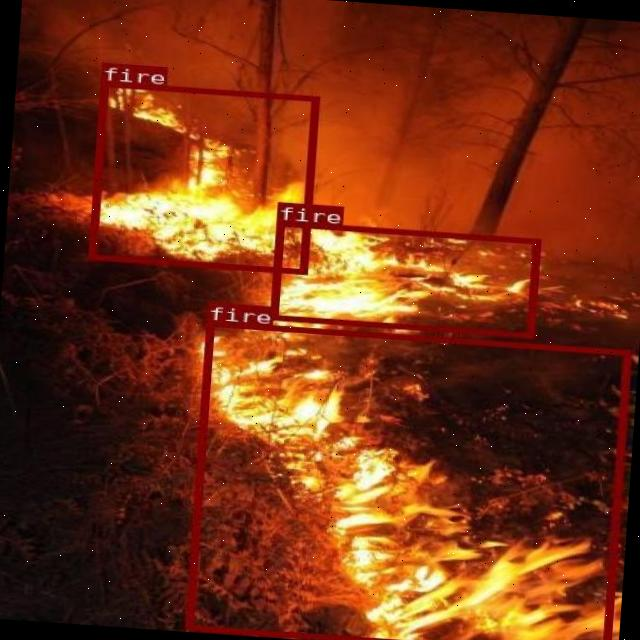fire: (184, 319, 629, 640), (86, 80, 316, 273), (269, 220, 538, 336)
